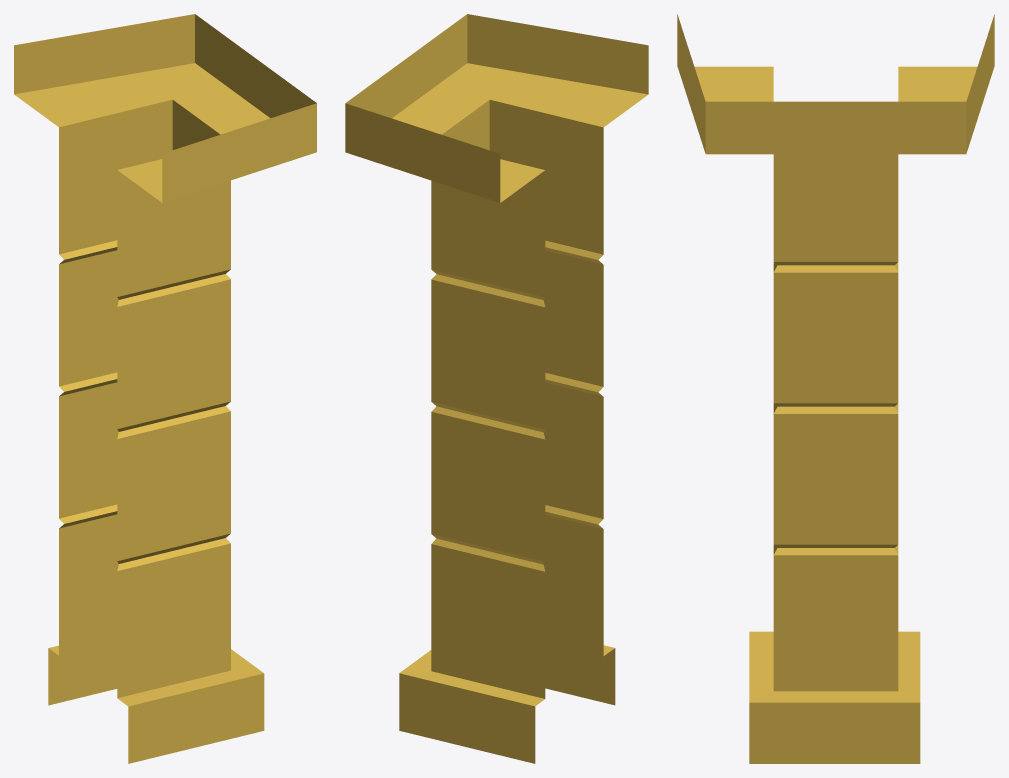
Rendered from pillar.glb.
3 views of the same model, side by side, from view 1: azimuth 30°, elevation 25°; view 2: azimuth 150°, elevation 25°; view 3: azimuth 270°, elevation 25° (orthographic). The views are drawn at different scales.
Parts seen in each view (by area): view 1: Cube; view 2: Cube; view 3: Cube.
Part boxes in pixels (<box>): Cube: <box>14,14,316,763</box>; Cube: <box>345,14,648,763</box>; Cube: <box>677,14,994,763</box>.
Size of the model in its own units: 2.4 by 8.64 by 3.65.
